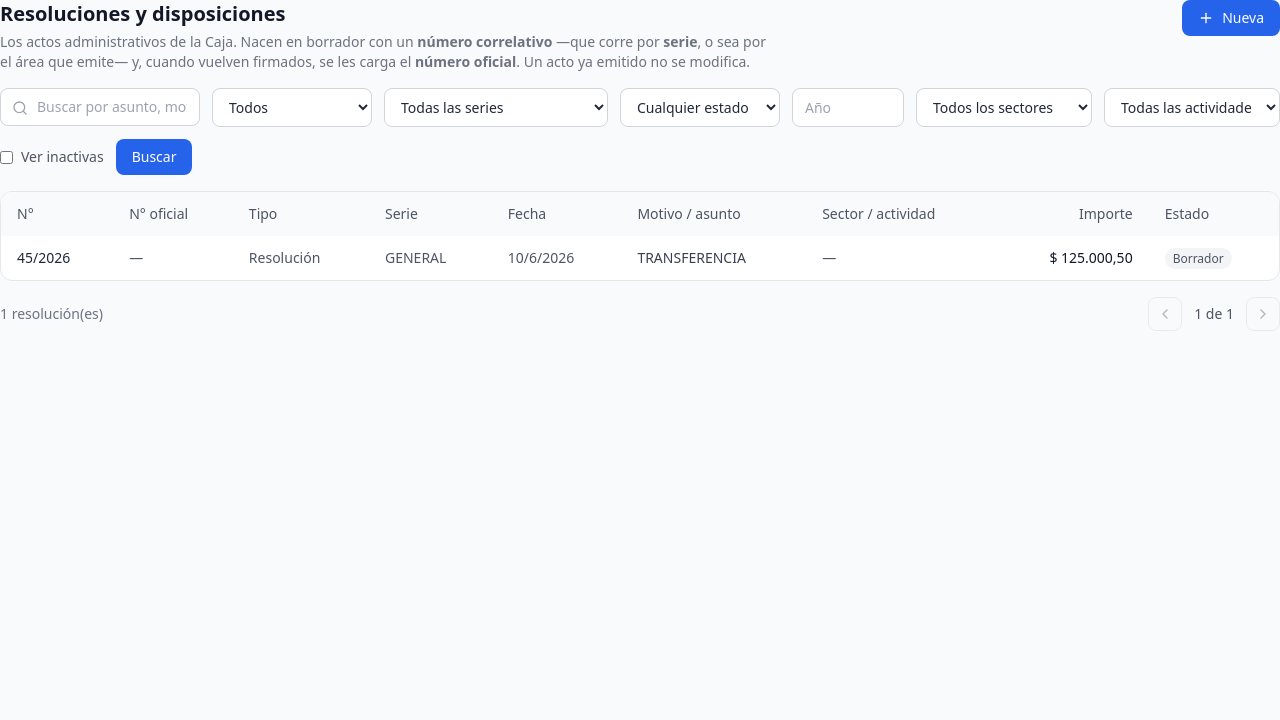
Test: resoluciones y disposiciones › al elegir un modelo ofrece su plantilla como cuerpo inicial
Check: the text "45/2026" is shown, box x1=1 y1=236 x2=113 y2=280
Click the button "Nueva" at (1231, 18), box x1=1182 y1=0 x2=1279 y2=36
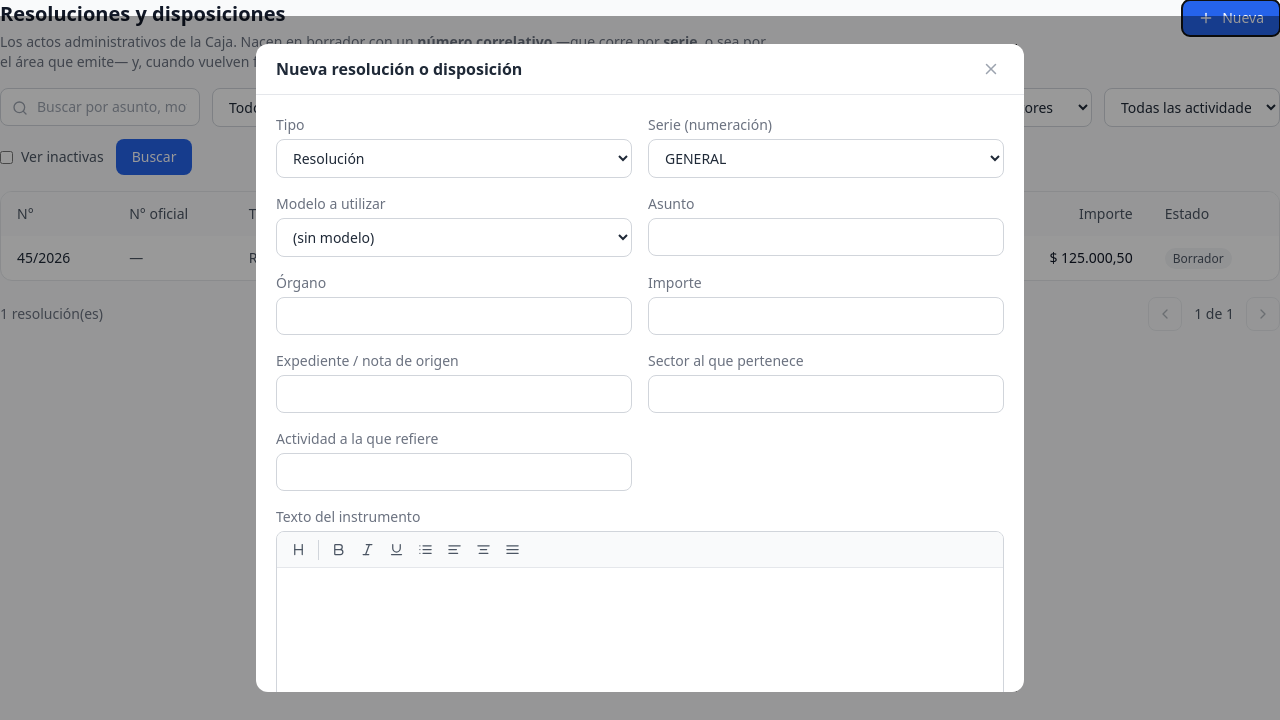
Select "103 · TRANSFERENCIA" in the dropdown labelled "Modelo a utilizar" at (454, 238), box x1=276 y1=218 x2=632 y2=257
(page scrolled)
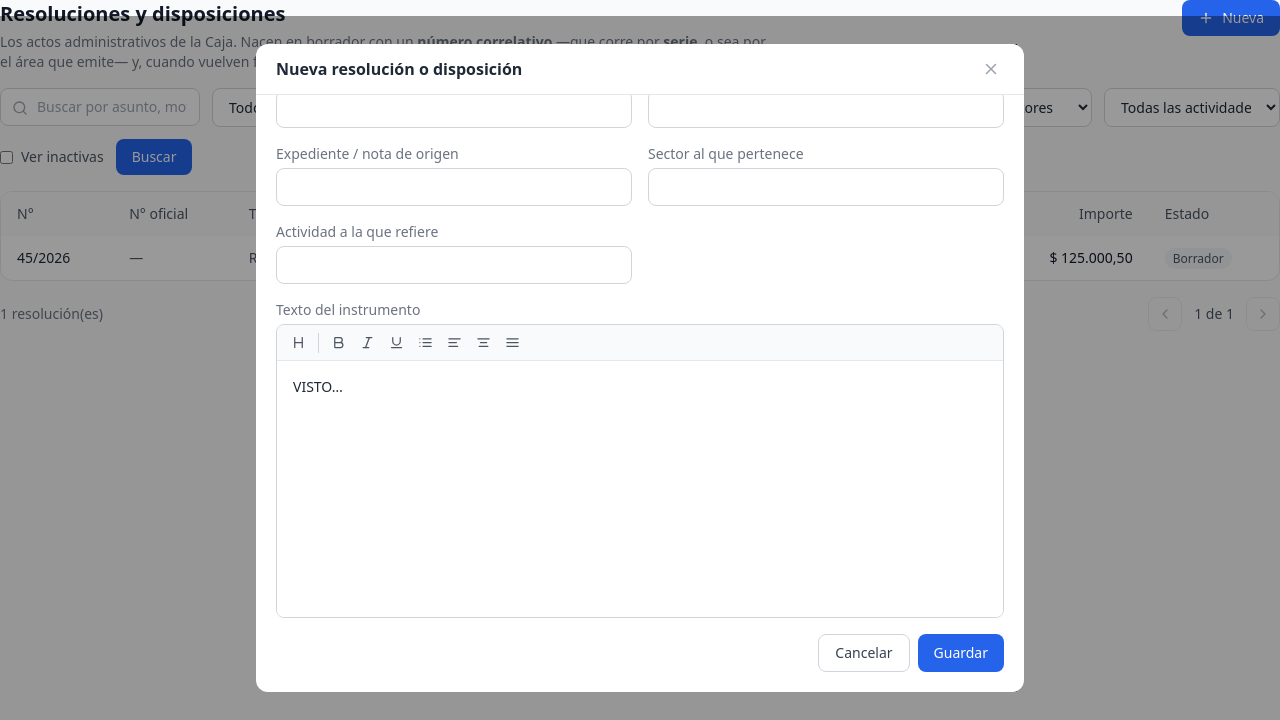
Check: the field named "Texto del instrumento" shows "VISTO", box x1=277 y1=361 x2=1003 y2=617
